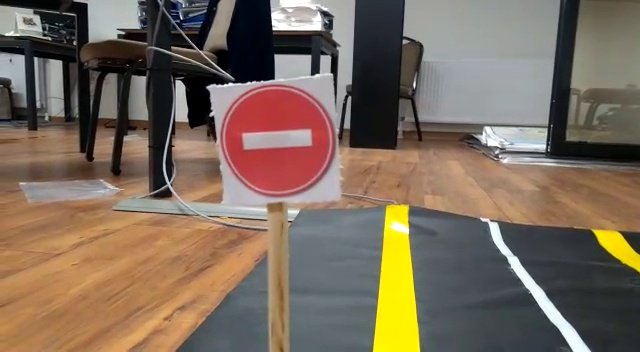girisi_olmayan_yol: (209, 82, 340, 204)
